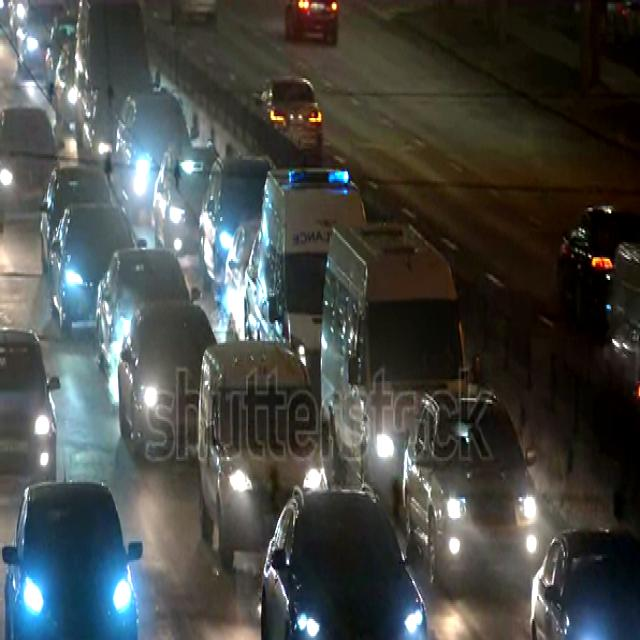ambulance: (256, 165, 370, 414)
